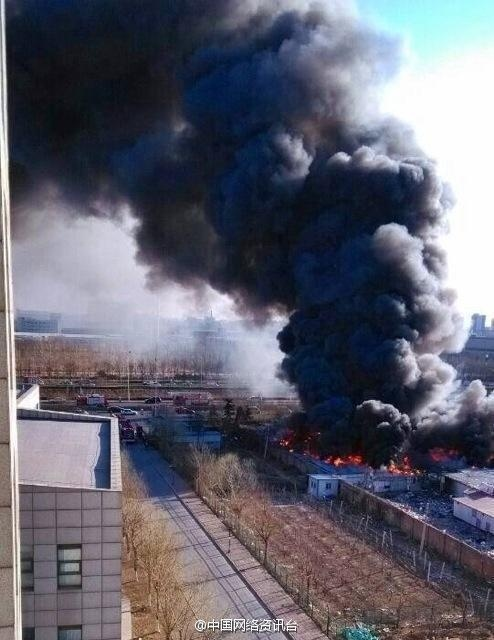fire: (387, 456, 417, 476)
